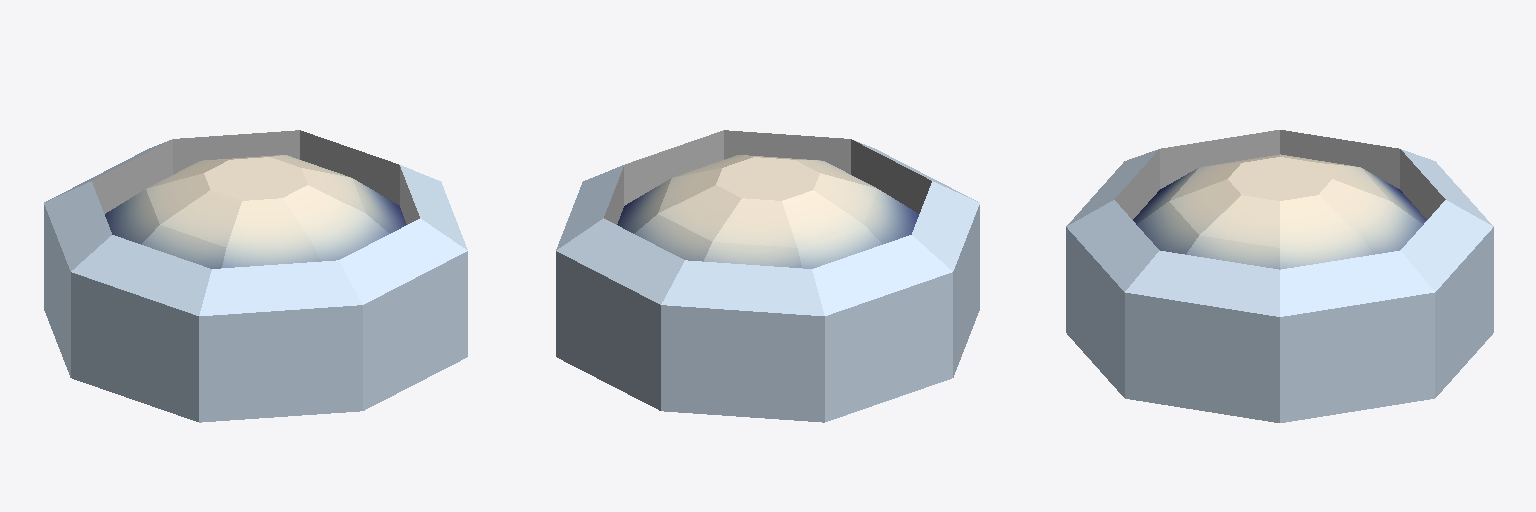
The picture shows the model from 3 angles: view 1: azimuth 30°, elevation 25°; view 2: azimuth 150°, elevation 25°; view 3: azimuth 270°, elevation 25°; orthographic projection.
Visible parts, largest first — view 1: Cube; view 2: Cube; view 3: Cube.
Part boxes in pixels (bbox=[...]): Cube: bbox=[44, 130, 467, 422]; Cube: bbox=[556, 130, 979, 422]; Cube: bbox=[1066, 130, 1493, 422].
Size of the model in its own units: 2.7 by 1.07 by 2.7.
Materials: 1 (1 with a texture image).